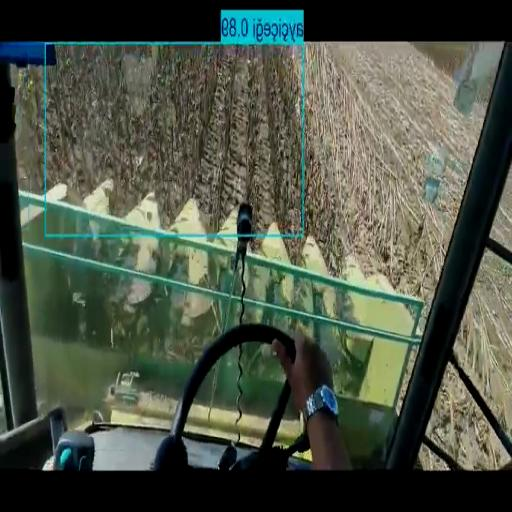ayc: (47, 47, 301, 231)
